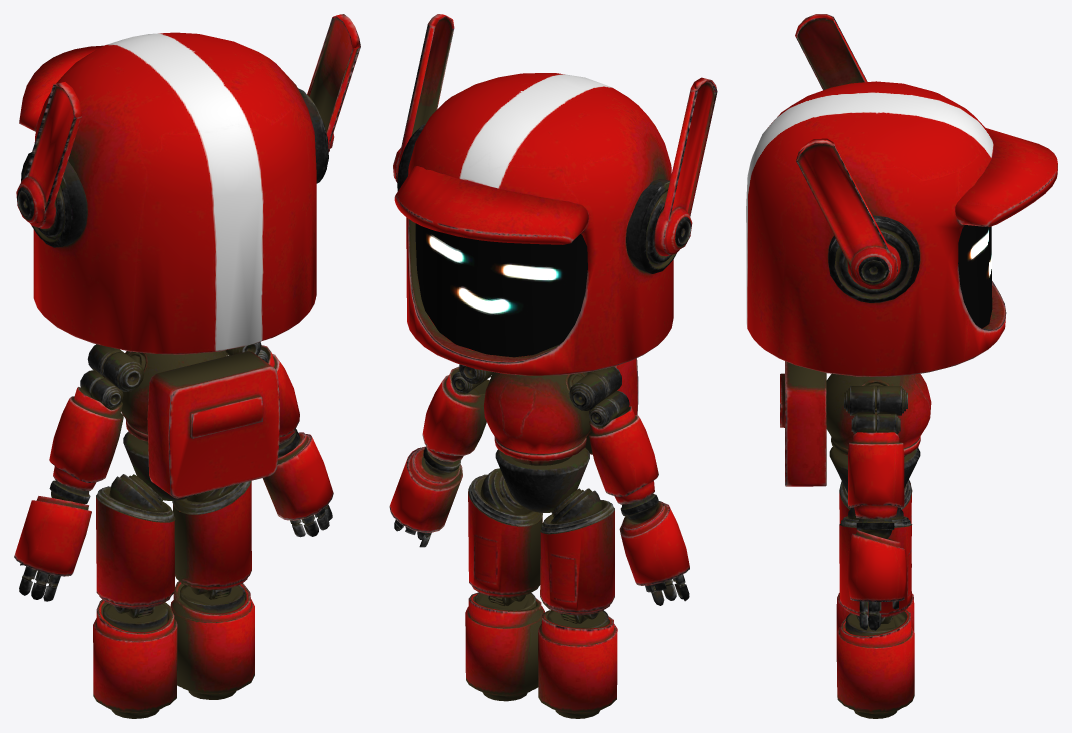
File: com.demensdeum.robot.model.glb
3 renders of one model, left to right at view 1: azimuth 30°, elevation 25°; view 2: azimuth 150°, elevation 25°; view 3: azimuth 270°, elevation 25°, orthographic. The views are drawn at different scales.
Parts seen in each view (by area): view 1: Object_10; view 2: Object_10; view 3: Object_10.
Boxes of the visible parts, bbox=[...] form: Object_10: bbox=[14, 14, 360, 718]; Object_10: bbox=[389, 14, 717, 718]; Object_10: bbox=[746, 14, 1057, 718].
Size of the model in its own units: 0.3895 by 0.798 by 0.3668.
1 material, 1 textured.
